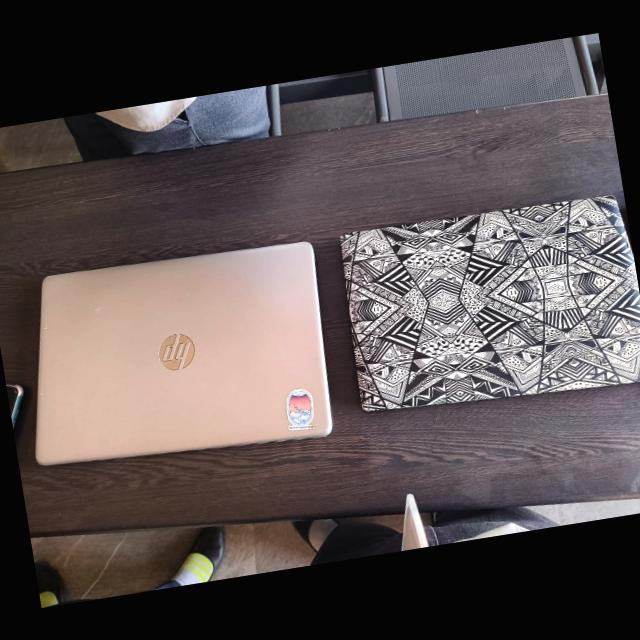laptop: (5, 218, 348, 492), (324, 172, 640, 443)
